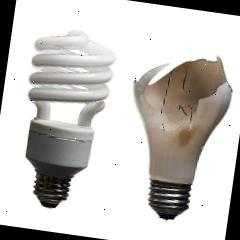lightbulb: (114, 44, 237, 226), (10, 24, 118, 214)
